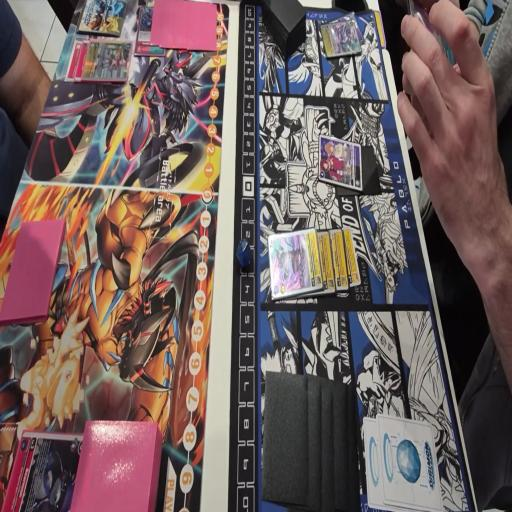card: (0, 425, 90, 512), (266, 228, 317, 303), (314, 141, 366, 185), (87, 37, 131, 88), (320, 22, 362, 62), (134, 4, 164, 56), (318, 228, 337, 300), (341, 225, 361, 291), (332, 224, 348, 297), (62, 37, 84, 83), (74, 40, 92, 84)
